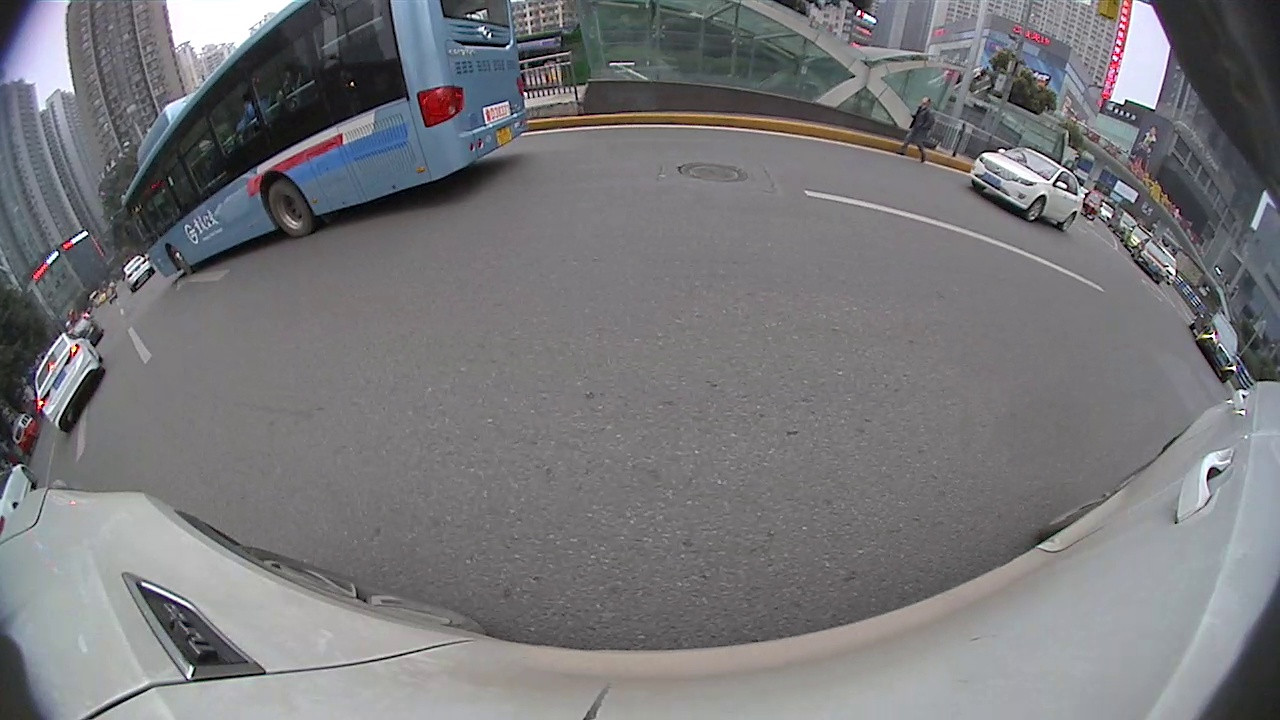bus: (119, 1, 526, 278)
car: (968, 145, 1085, 233), (35, 330, 105, 434), (1189, 312, 1240, 383), (1, 463, 38, 518), (1133, 237, 1173, 286), (123, 254, 156, 293), (67, 312, 102, 346), (1124, 224, 1152, 257), (1159, 252, 1178, 284)
front: (170, 245, 194, 283), (1021, 198, 1049, 224)
person: (915, 92, 932, 159)
rear: (263, 181, 314, 240), (1057, 210, 1080, 235)
